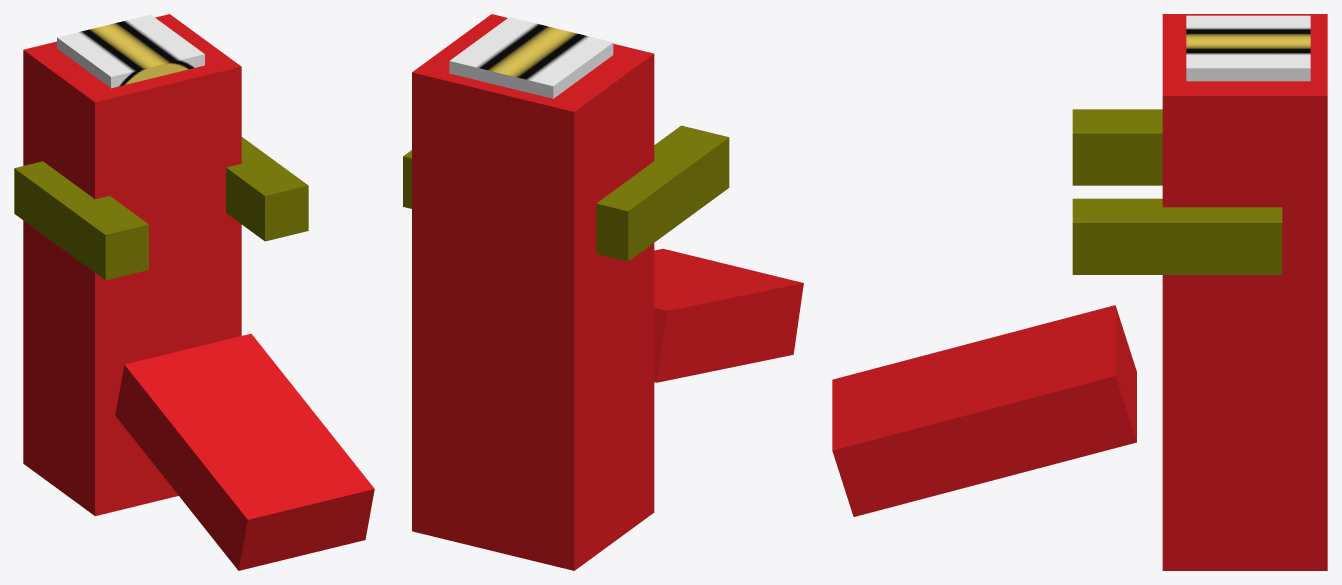
The model's file is player.glb.
3 renders of one model, left to right at view 1: azimuth 30°, elevation 25°; view 2: azimuth 150°, elevation 25°; view 3: azimuth 270°, elevation 25°, orthographic. The views are drawn at different scales.
Visible parts, largest first — view 1: box, box2, Body; view 2: box, Body, box2; view 3: box, box2, Body.
Part boxes in pixels (box(x1,y1,x2,y2)): box: box(23, 14, 241, 516); box2: box(115, 333, 374, 570); Body: box(14, 14, 308, 280); box: box(412, 14, 654, 570); Body: box(403, 17, 729, 261); box2: box(654, 248, 803, 382); box: box(1162, 14, 1327, 570); box2: box(832, 305, 1136, 516); Body: box(1072, 15, 1310, 274).
Size of the model in its own units: 1.67 by 3.39 by 3.08.
Materials: 2 (1 with a texture image).
